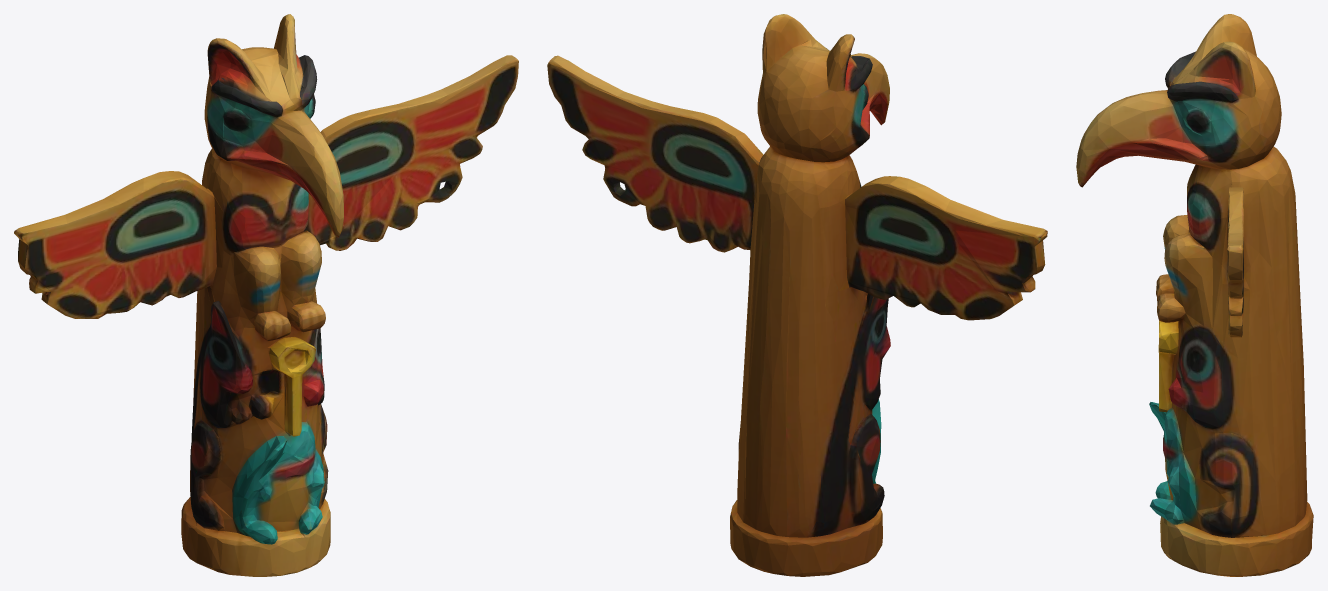
Rendered from pole_raven.glb.
The picture shows the model from 3 angles, left to right: view 1: azimuth 30°, elevation 25°; view 2: azimuth 150°, elevation 25°; view 3: azimuth 270°, elevation 25°; orthographic projection.
Visible parts, largest first — view 1: geometry_0; view 2: geometry_0; view 3: geometry_0.
Part boxes in pixels (bbox=[...]): geometry_0: bbox=[14, 14, 518, 576]; geometry_0: bbox=[547, 14, 1047, 576]; geometry_0: bbox=[1076, 14, 1313, 576].
Size of the model in its own units: 0.9928 by 0.9998 by 0.4147.
Materials: 1 (1 with a texture image).
